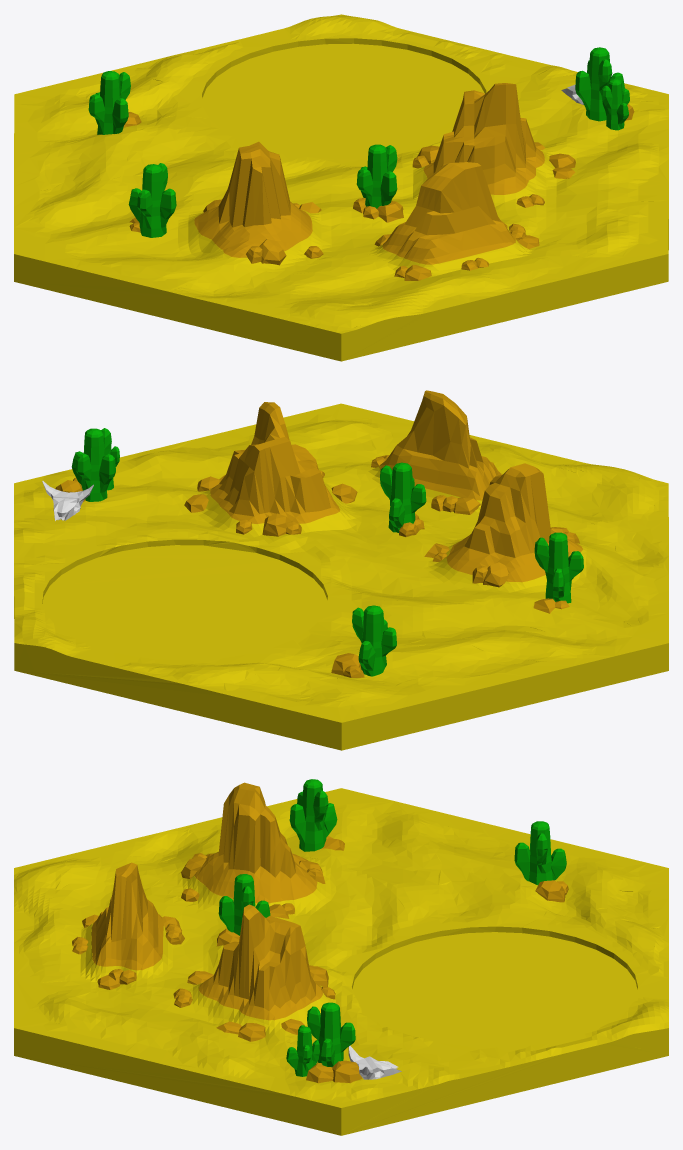
File: desert.glb
The picture shows the model from 3 angles, top to bottom: view 1: azimuth 30°, elevation 25°; view 2: azimuth 150°, elevation 25°; view 3: azimuth 270°, elevation 25°; orthographic projection.
Visible parts, largest first — view 1: desert; view 2: desert; view 3: desert.
Part boxes in pixels (x1,y1,x2,y2): desert: (14,14,668,361); desert: (14,390,668,750); desert: (14,779,668,1135).
Bounding box in the file's own units: 74 × 13.47 × 64.02.
